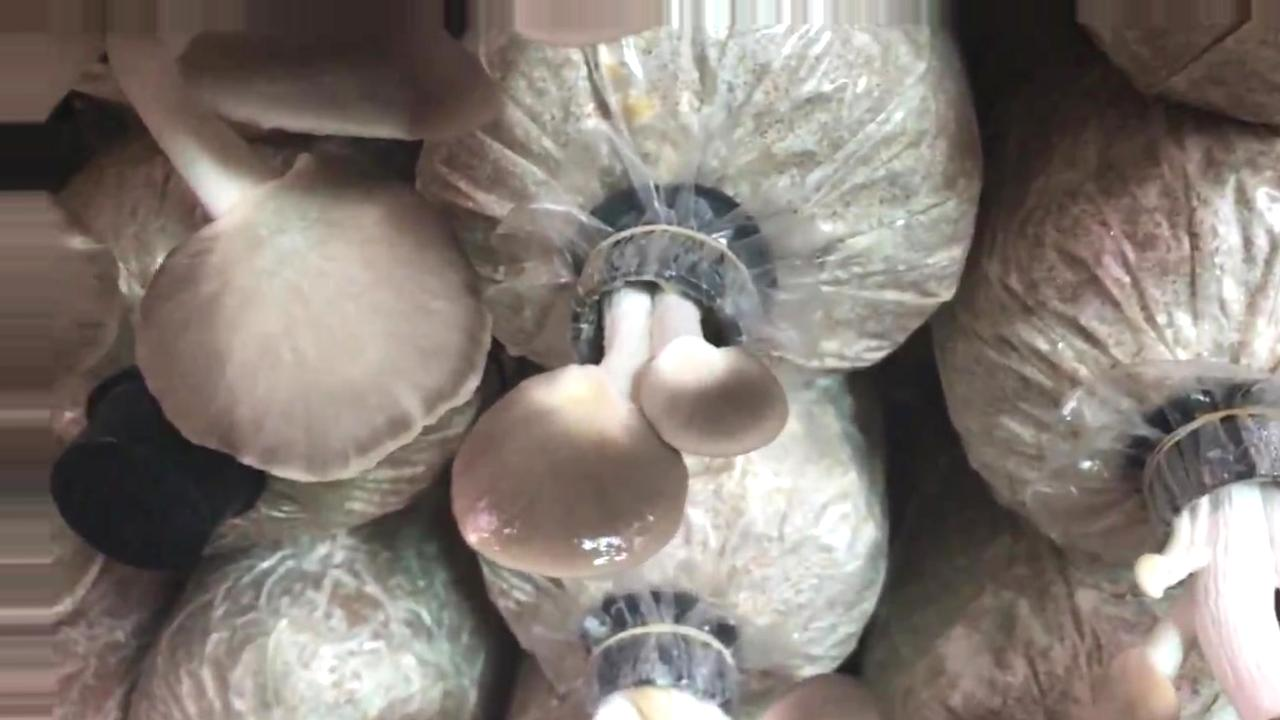nam: (2, 1, 491, 485), (443, 192, 791, 578)
